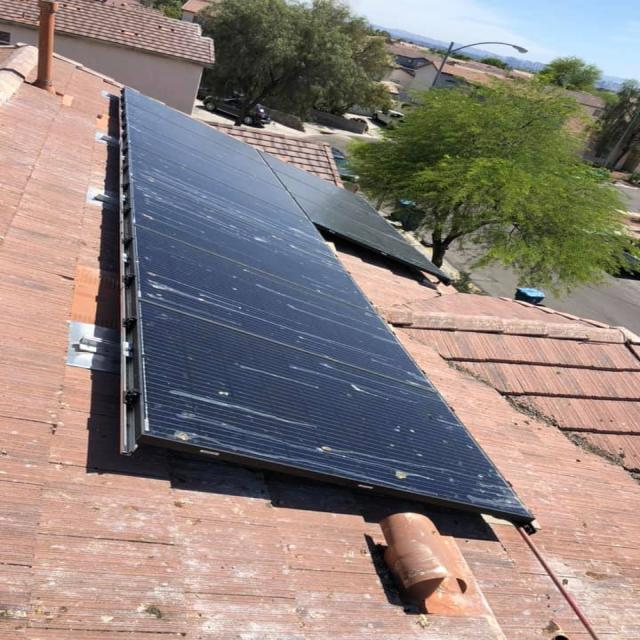dust-solar-panel: (126, 85, 534, 516)
